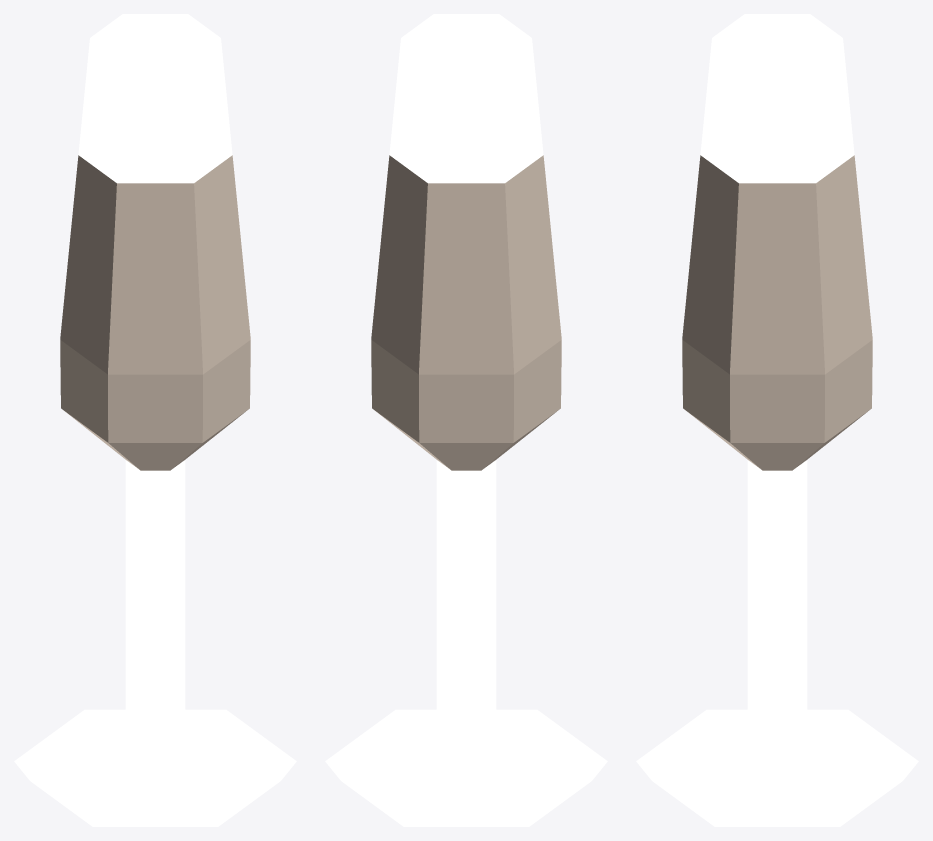
Rendered from drinks-drink-champagne.glb.
3 renders of one model, left to right at view 1: azimuth 30°, elevation 25°; view 2: azimuth 150°, elevation 25°; view 3: azimuth 270°, elevation 25°, orthographic.
Parts seen in each view (by area): view 1: drink-champagne; view 2: drink-champagne; view 3: drink-champagne.
Boxes of the visible parts, box(x1,y1,x2,y2) form: drink-champagne: box(14, 14, 296, 826); drink-champagne: box(325, 14, 607, 826); drink-champagne: box(636, 14, 918, 826).
Size of the model in its own units: 0.0683 by 0.2286 by 0.0789.
